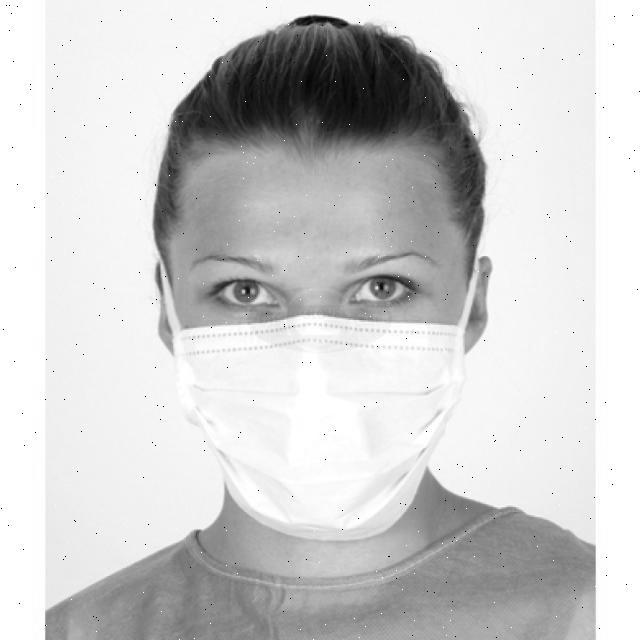fake: (159, 317, 473, 546)
real: (173, 142, 468, 549)
